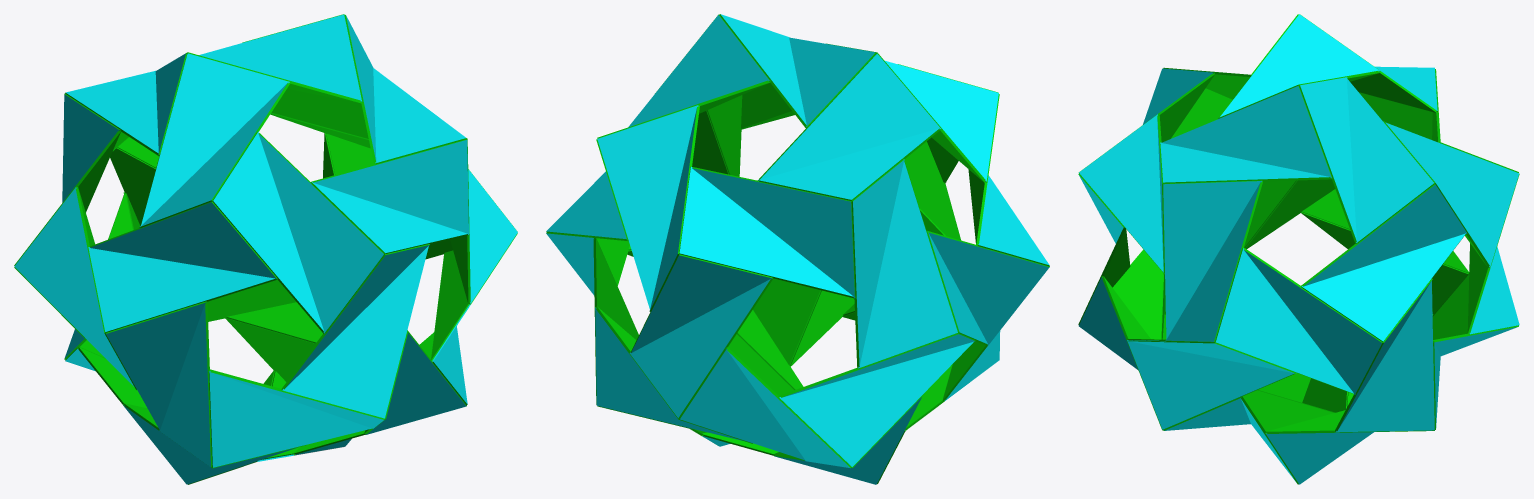
The model's file is Dodecahedron1.glb.
The picture shows the model from 3 angles, left to right: view 1: azimuth 30°, elevation 25°; view 2: azimuth 150°, elevation 25°; view 3: azimuth 270°, elevation 25°; orthographic projection. The views are drawn at different scales.
Visible parts, largest first — view 1: root; view 2: root; view 3: root.
Boxes of the visible parts, box(x1,y1,x2,y2) form: root: box(14, 14, 517, 484); root: box(546, 14, 1049, 484); root: box(1078, 14, 1519, 484).
Bounding box in the file's own units: 2.63 × 2.63 × 2.63.
